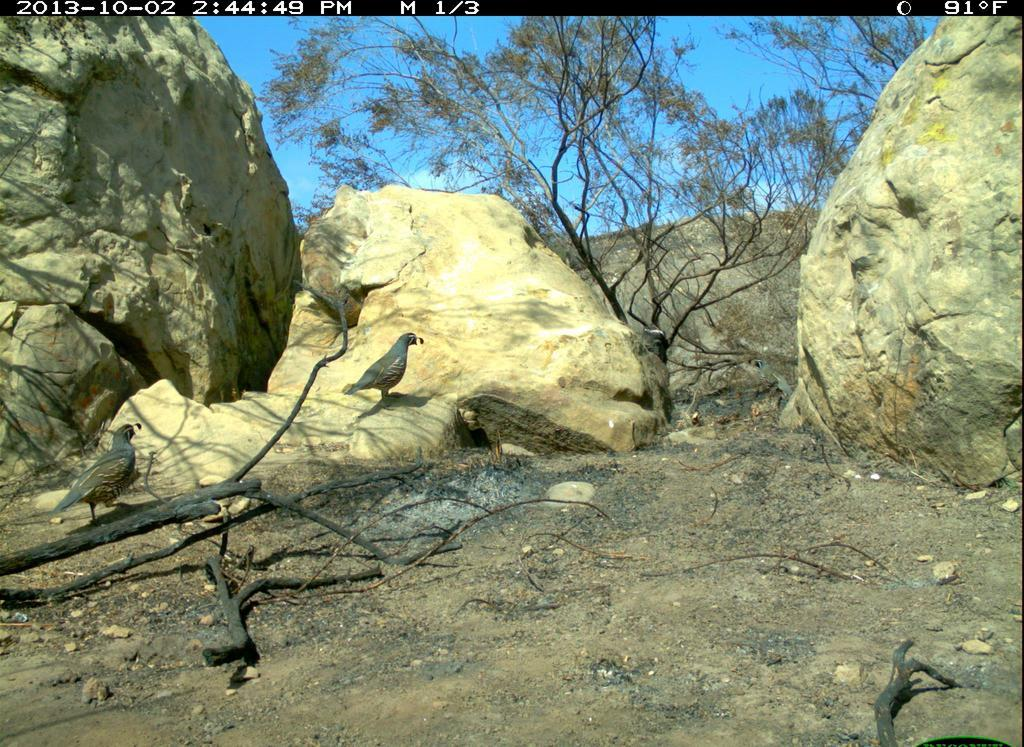bird: (47, 409, 152, 529)
